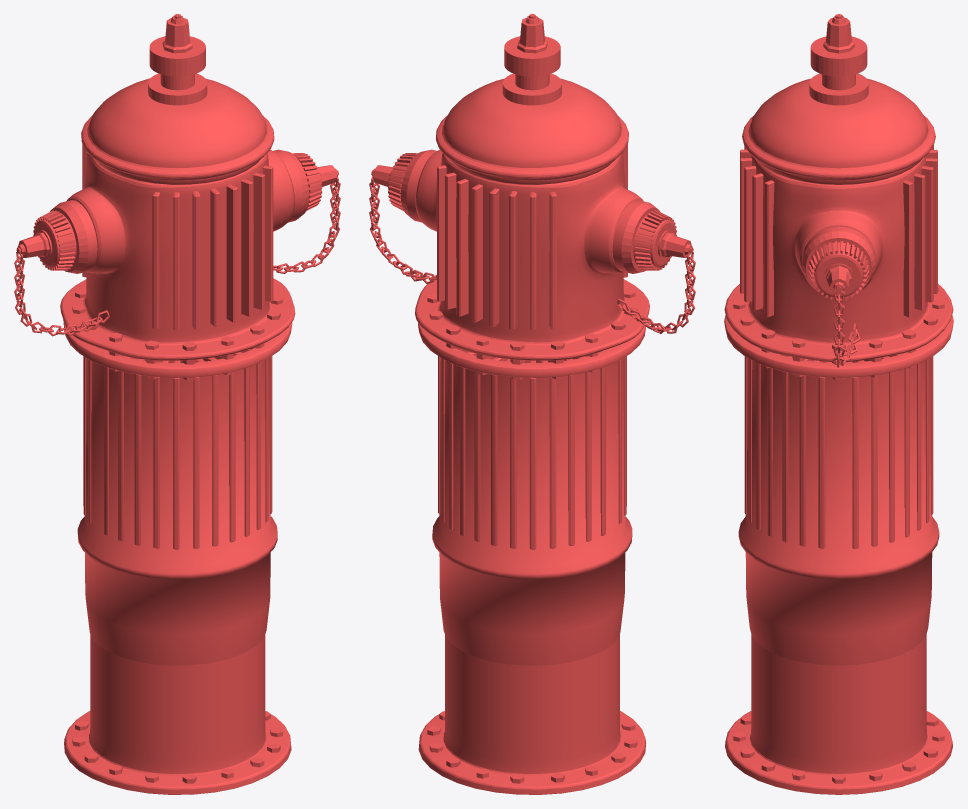
Rendered from hydrant.gltf.
The picture shows the model from 3 angles, left to right: view 1: azimuth 30°, elevation 25°; view 2: azimuth 150°, elevation 25°; view 3: azimuth 270°, elevation 25°; orthographic projection.
Parts seen in each view (by area): view 1: hydrant; view 2: hydrant; view 3: hydrant.
Part boxes in pixels (left/top/right/bottom): hydrant: left=14, top=14, right=340, bottom=794; hydrant: left=369, top=14, right=695, bottom=794; hydrant: left=724, top=14, right=953, bottom=794.
Bounding box in the file's own units: 0.4194 × 0.8998 × 0.2561.
